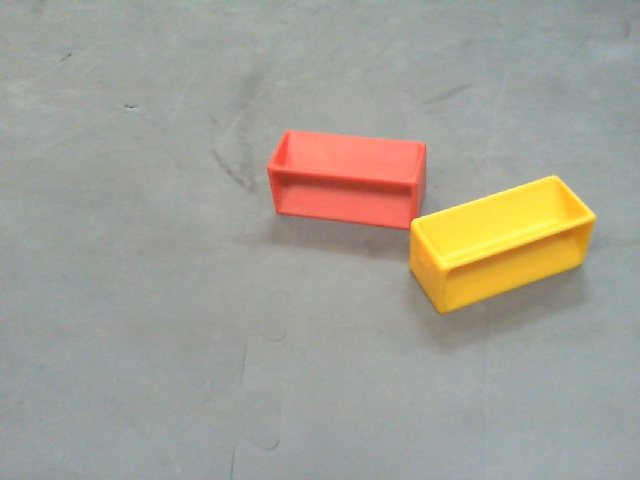RedSample: (266, 129, 427, 232)
YellowSample: (407, 175, 597, 314)
